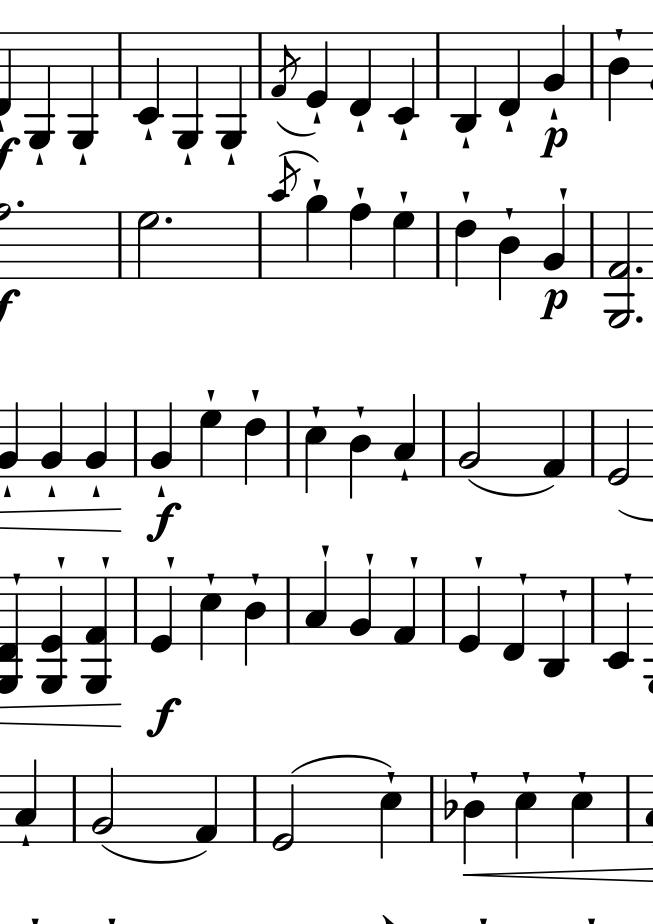2_0: (270, 773, 296, 853), (605, 408, 632, 485)
2_2: (90, 767, 115, 842), (460, 400, 483, 479)
2_7: (136, 208, 164, 283)
4_-1: (495, 30, 522, 119), (346, 31, 373, 119), (502, 575, 527, 664)
4_-2: (602, 575, 633, 669), (133, 30, 162, 127), (389, 27, 416, 127)
4_-3: (453, 29, 480, 137), (540, 574, 567, 679)
4_-5: (22, 30, 57, 148), (69, 30, 100, 150), (171, 27, 201, 150), (219, 29, 246, 152)
4_0: (303, 30, 331, 112), (150, 576, 176, 653), (457, 575, 482, 654)
4_1: (538, 408, 567, 479), (393, 576, 419, 647), (195, 772, 218, 843)
4_2: (82, 400, 110, 480), (542, 200, 568, 279), (542, 24, 568, 100), (39, 401, 64, 480), (150, 401, 175, 479), (349, 569, 373, 648), (1, 401, 22, 478)
4_3: (303, 559, 329, 647), (393, 392, 417, 480), (14, 758, 38, 844)
4_4: (345, 409, 374, 502), (606, 32, 633, 123), (460, 773, 487, 863), (497, 210, 523, 301), (243, 575, 266, 664)
4_5: (302, 409, 329, 497), (512, 771, 539, 859), (197, 575, 224, 662), (377, 773, 402, 860), (570, 770, 593, 858)
4_6: (242, 409, 269, 487), (453, 212, 477, 285)
4_7: (198, 410, 224, 479), (392, 210, 416, 281)
4_8: (346, 201, 371, 282)
4_9: (304, 194, 332, 280)
Acciaccature: (269, 157, 300, 281), (270, 31, 300, 101)
Crescendo_hairpin: (462, 866, 653, 882)
Flat: (442, 775, 459, 825)
Single_barline: (112, 212, 129, 277), (252, 212, 268, 277), (621, 776, 637, 841), (281, 409, 296, 477), (112, 32, 127, 99), (424, 775, 439, 841), (436, 410, 451, 476), (584, 211, 599, 277), (67, 776, 82, 841), (431, 32, 445, 101), (436, 576, 450, 645), (586, 576, 600, 645), (247, 776, 262, 840), (431, 212, 445, 279), (253, 32, 267, 97), (586, 32, 599, 100), (282, 577, 295, 643), (129, 577, 141, 642)
Slur: (292, 753, 393, 774), (102, 845, 209, 864), (275, 121, 316, 138), (280, 149, 320, 163)
Staccatissimo: (466, 479, 555, 496), (91, 484, 103, 501), (311, 403, 322, 420), (20, 833, 31, 850), (33, 152, 45, 167), (1, 483, 13, 498), (250, 387, 261, 403), (45, 484, 57, 498), (461, 135, 472, 150), (549, 107, 560, 122), (165, 555, 176, 570), (143, 126, 153, 142), (614, 26, 624, 42), (156, 483, 166, 499), (101, 554, 111, 570), (206, 388, 217, 402), (474, 554, 485, 568), (578, 770, 589, 784), (226, 152, 236, 167), (460, 188, 470, 203), (311, 177, 321, 192), (250, 571, 260, 586), (356, 185, 365, 201), (408, 556, 419, 569), (505, 118, 515, 132), (559, 588, 569, 602), (365, 552, 375, 566), (321, 543, 331, 557), (521, 770, 531, 784), (400, 127, 409, 142), (506, 206, 515, 221), (356, 404, 365, 419), (558, 187, 569, 199), (518, 571, 528, 584), (206, 572, 216, 585), (468, 770, 478, 783), (400, 466, 408, 482), (78, 152, 87, 166), (183, 152, 192, 166), (356, 119, 365, 133), (57, 556, 66, 570), (12, 572, 21, 586), (313, 110, 322, 123), (399, 190, 408, 203), (623, 572, 632, 585), (386, 770, 395, 783)
dot: (161, 213, 175, 227), (13, 198, 27, 212), (634, 264, 645, 276), (635, 315, 645, 325)
f: (143, 502, 185, 544), (146, 697, 183, 738)
p: (540, 126, 569, 159), (541, 285, 568, 320)
